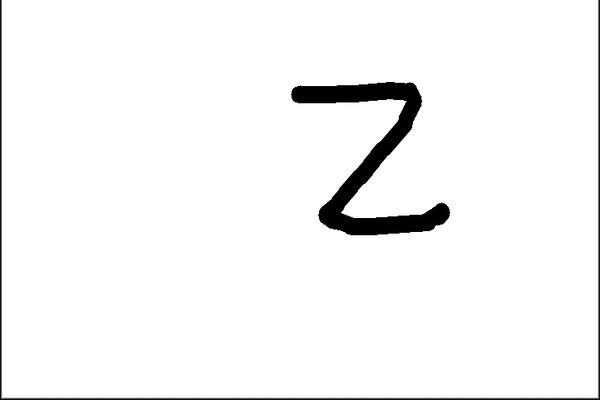Z: (279, 67, 452, 245)
